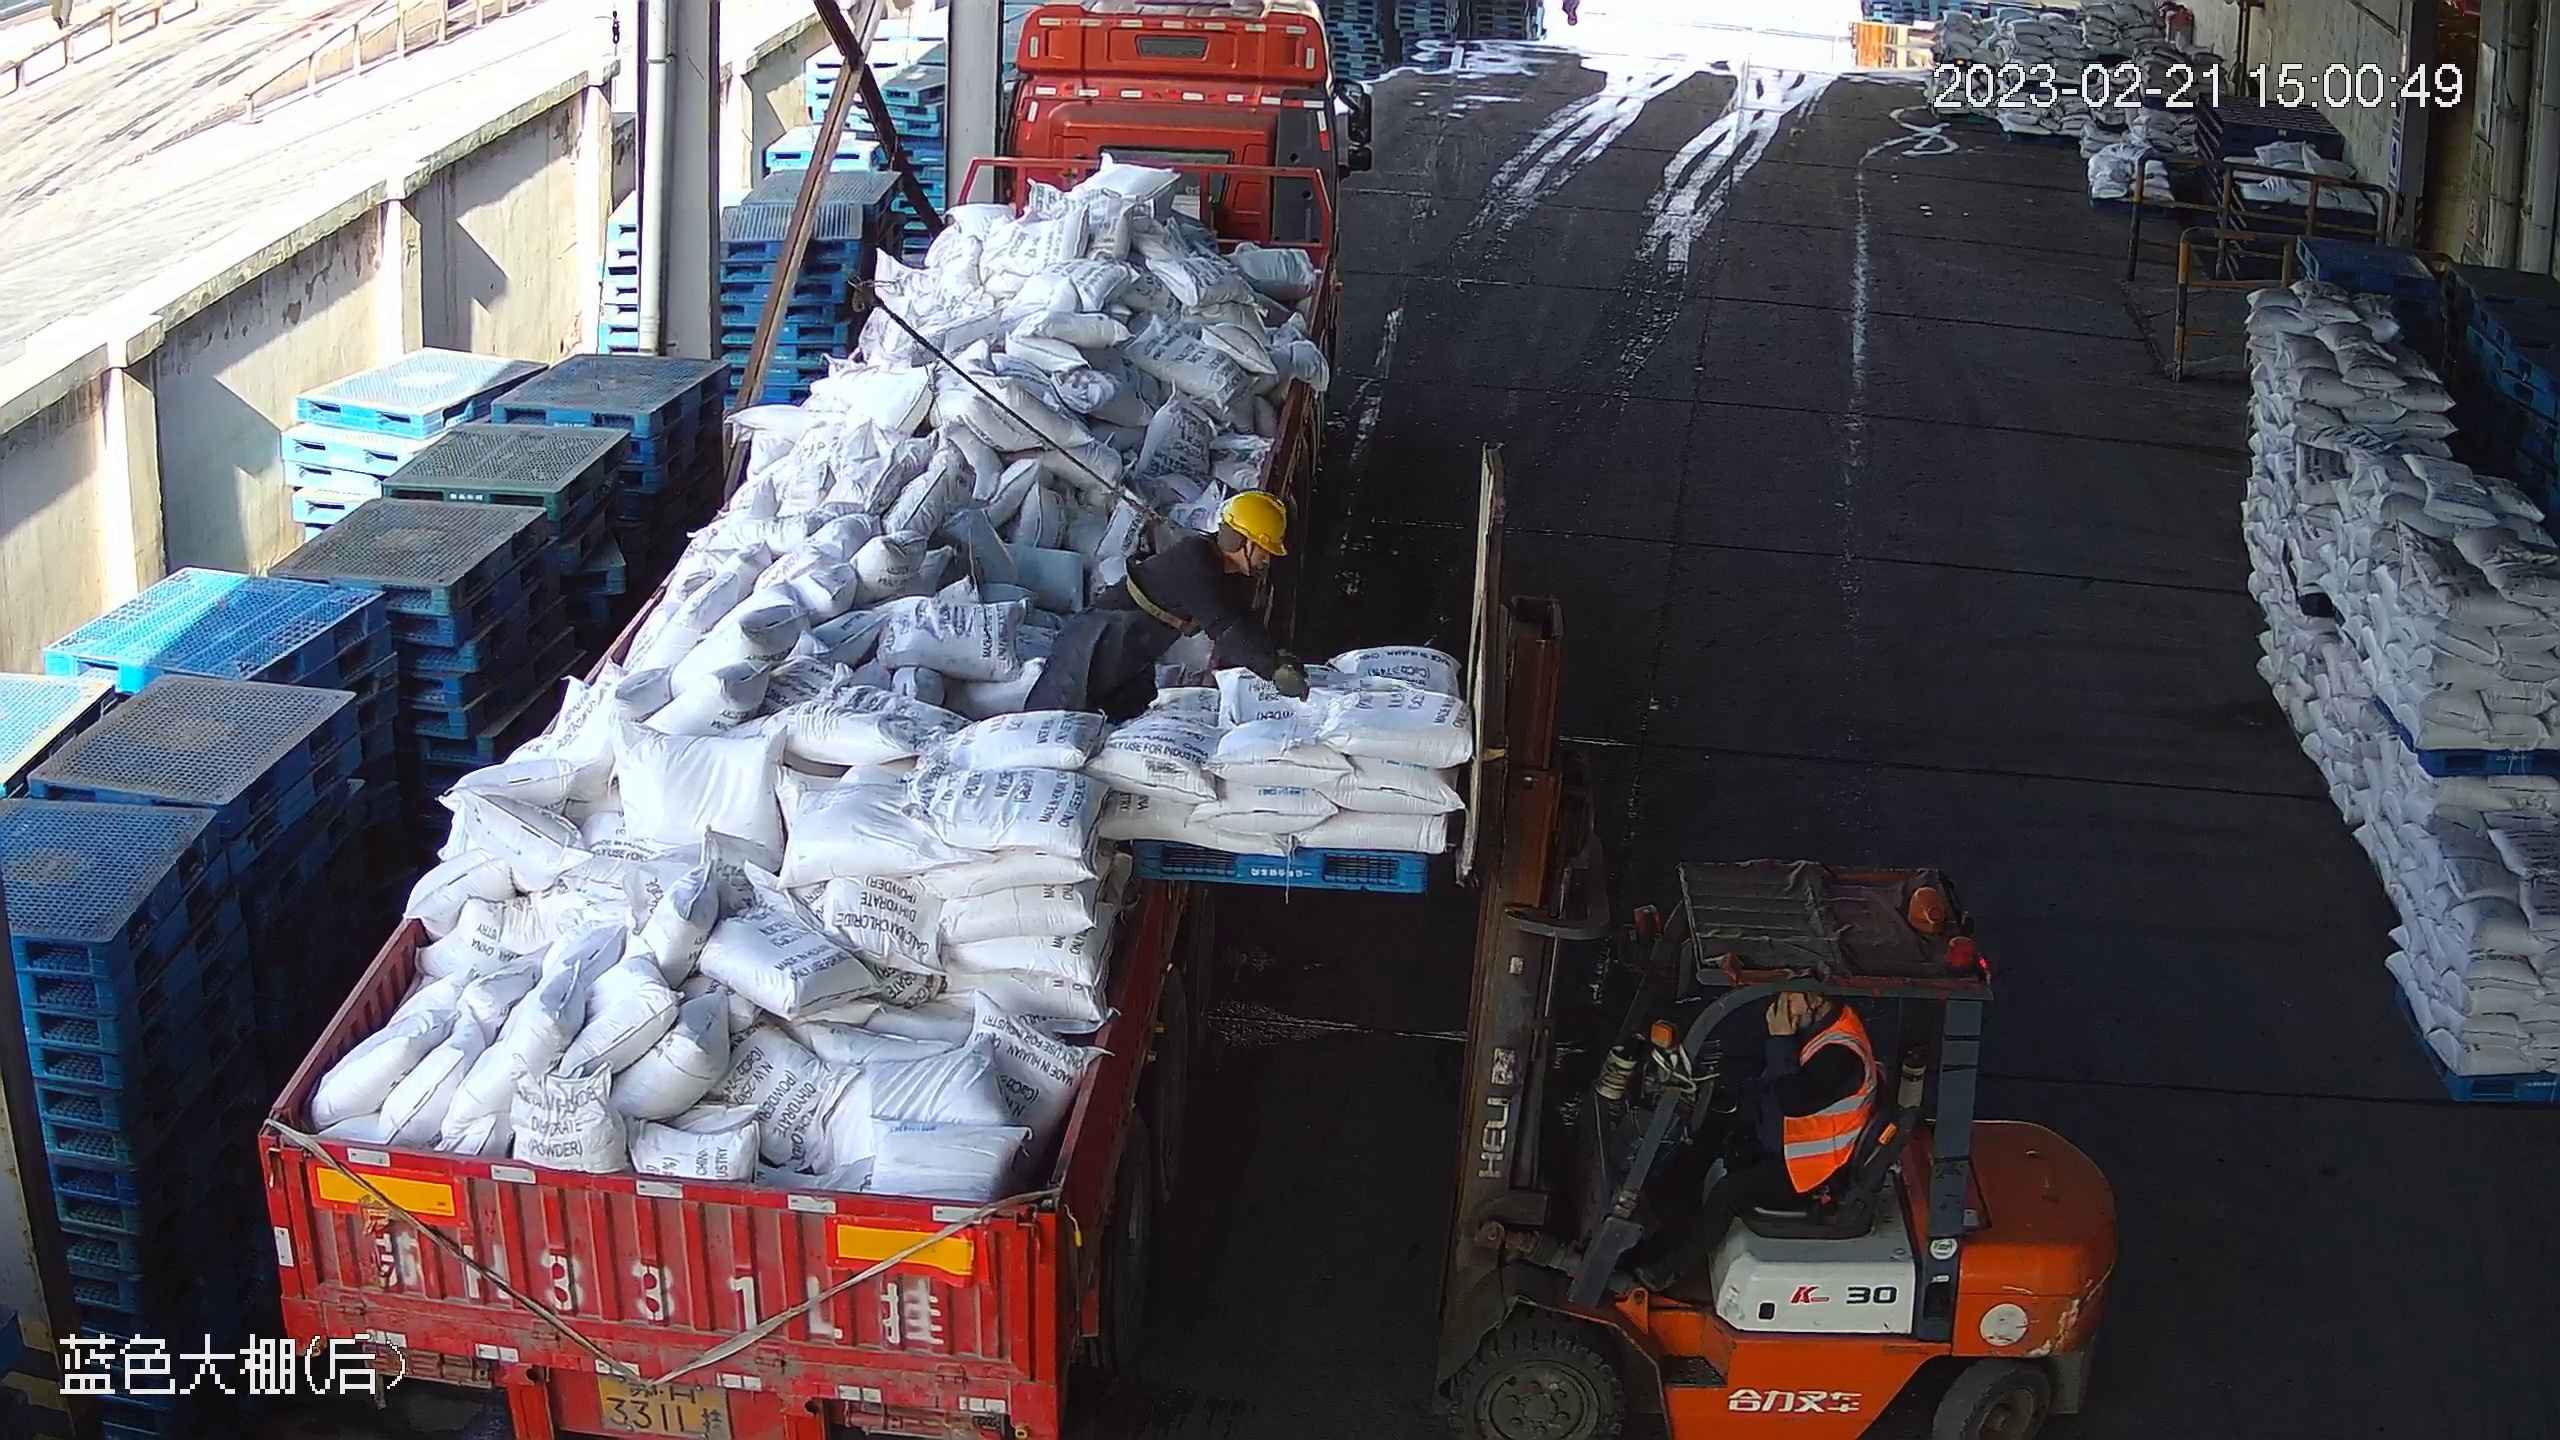belt: (1118, 538, 1199, 645)
head: (1148, 490, 1292, 632), (1764, 984, 1886, 1116)
helmet: (1222, 488, 1288, 562)
people: (1668, 973, 1888, 1279), (1038, 486, 1307, 721)
truck: (257, 1, 1385, 1421)
